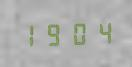four: (90, 19, 113, 45)
nine: (42, 20, 65, 47)
one: (18, 21, 41, 47)
zero: (66, 19, 89, 46)
